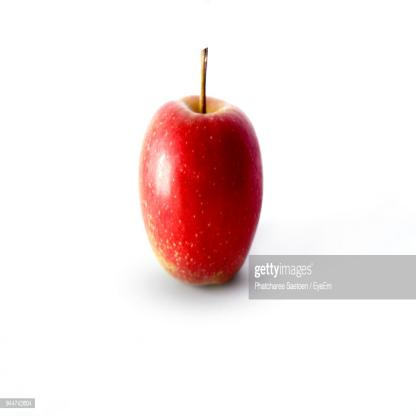Apple: (134, 54, 271, 299)
